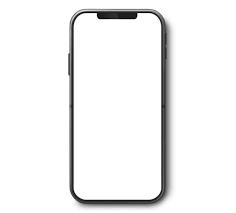Smartphone: (73, 9, 164, 203)
